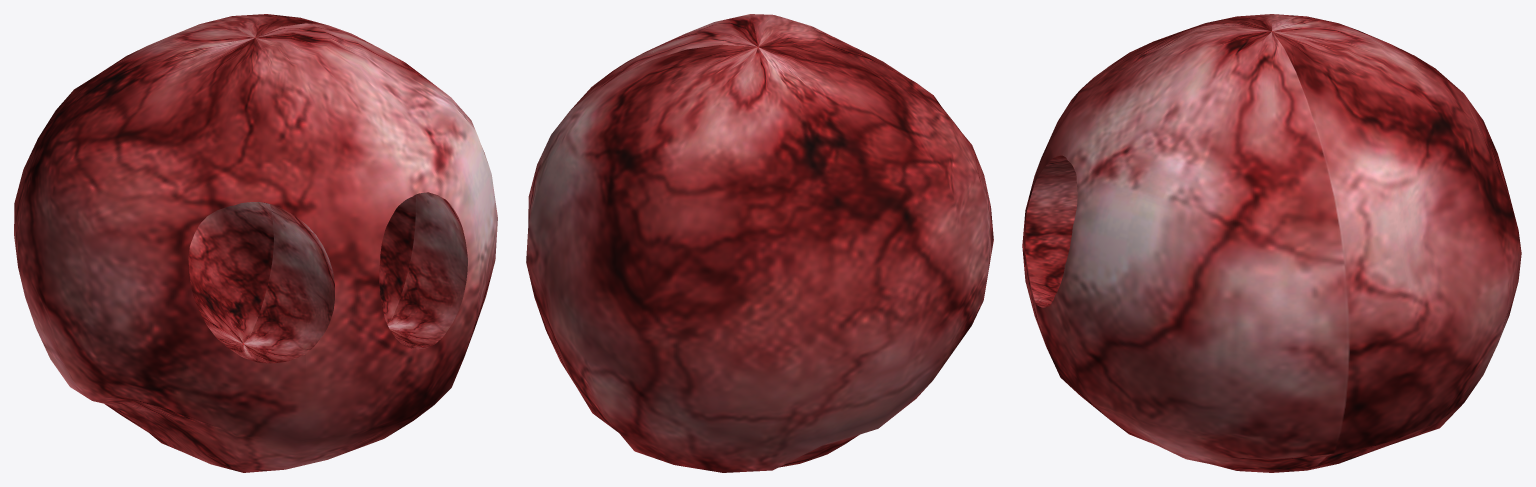
Rendered from Ranged.fbx.
The picture shows the model from 3 angles, left to right: view 1: azimuth 30°, elevation 25°; view 2: azimuth 150°, elevation 25°; view 3: azimuth 270°, elevation 25°; orthographic projection. The views are drawn at different scales.
Visible parts, largest first — view 1: pSphere5; view 2: pSphere5; view 3: pSphere5.
Boxes of the visible parts, box(x1,y1,x2,y2) form: pSphere5: box(14, 14, 497, 472); pSphere5: box(526, 14, 993, 472); pSphere5: box(1022, 14, 1521, 472).
Bounding box in the file's own units: 1.97 × 1.87 × 2.
